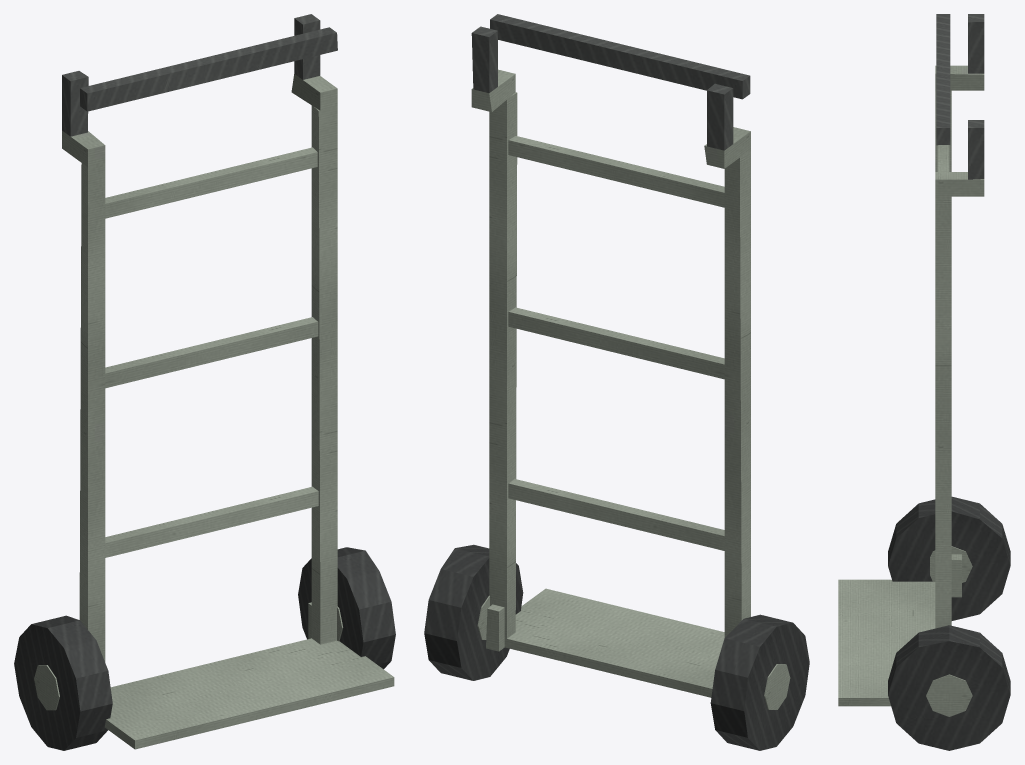
Rendered from handtruck_v1.glb.
3 renders of one model, left to right at view 1: azimuth 30°, elevation 25°; view 2: azimuth 150°, elevation 25°; view 3: azimuth 270°, elevation 25°, orthographic. The views are drawn at different scales.
Parts seen in each view (by area): view 1: Variant_handtruck_1; view 2: Variant_handtruck_1; view 3: Variant_handtruck_1.
Boxes of the visible parts, box(x1,y1,x2,y2) form: Variant_handtruck_1: box(14, 14, 395, 750); Variant_handtruck_1: box(424, 14, 809, 750); Variant_handtruck_1: box(838, 14, 1010, 750).
Size of the model in its own units: 0.5907 by 1.15 by 0.295.
3 materials, 3 textured.
